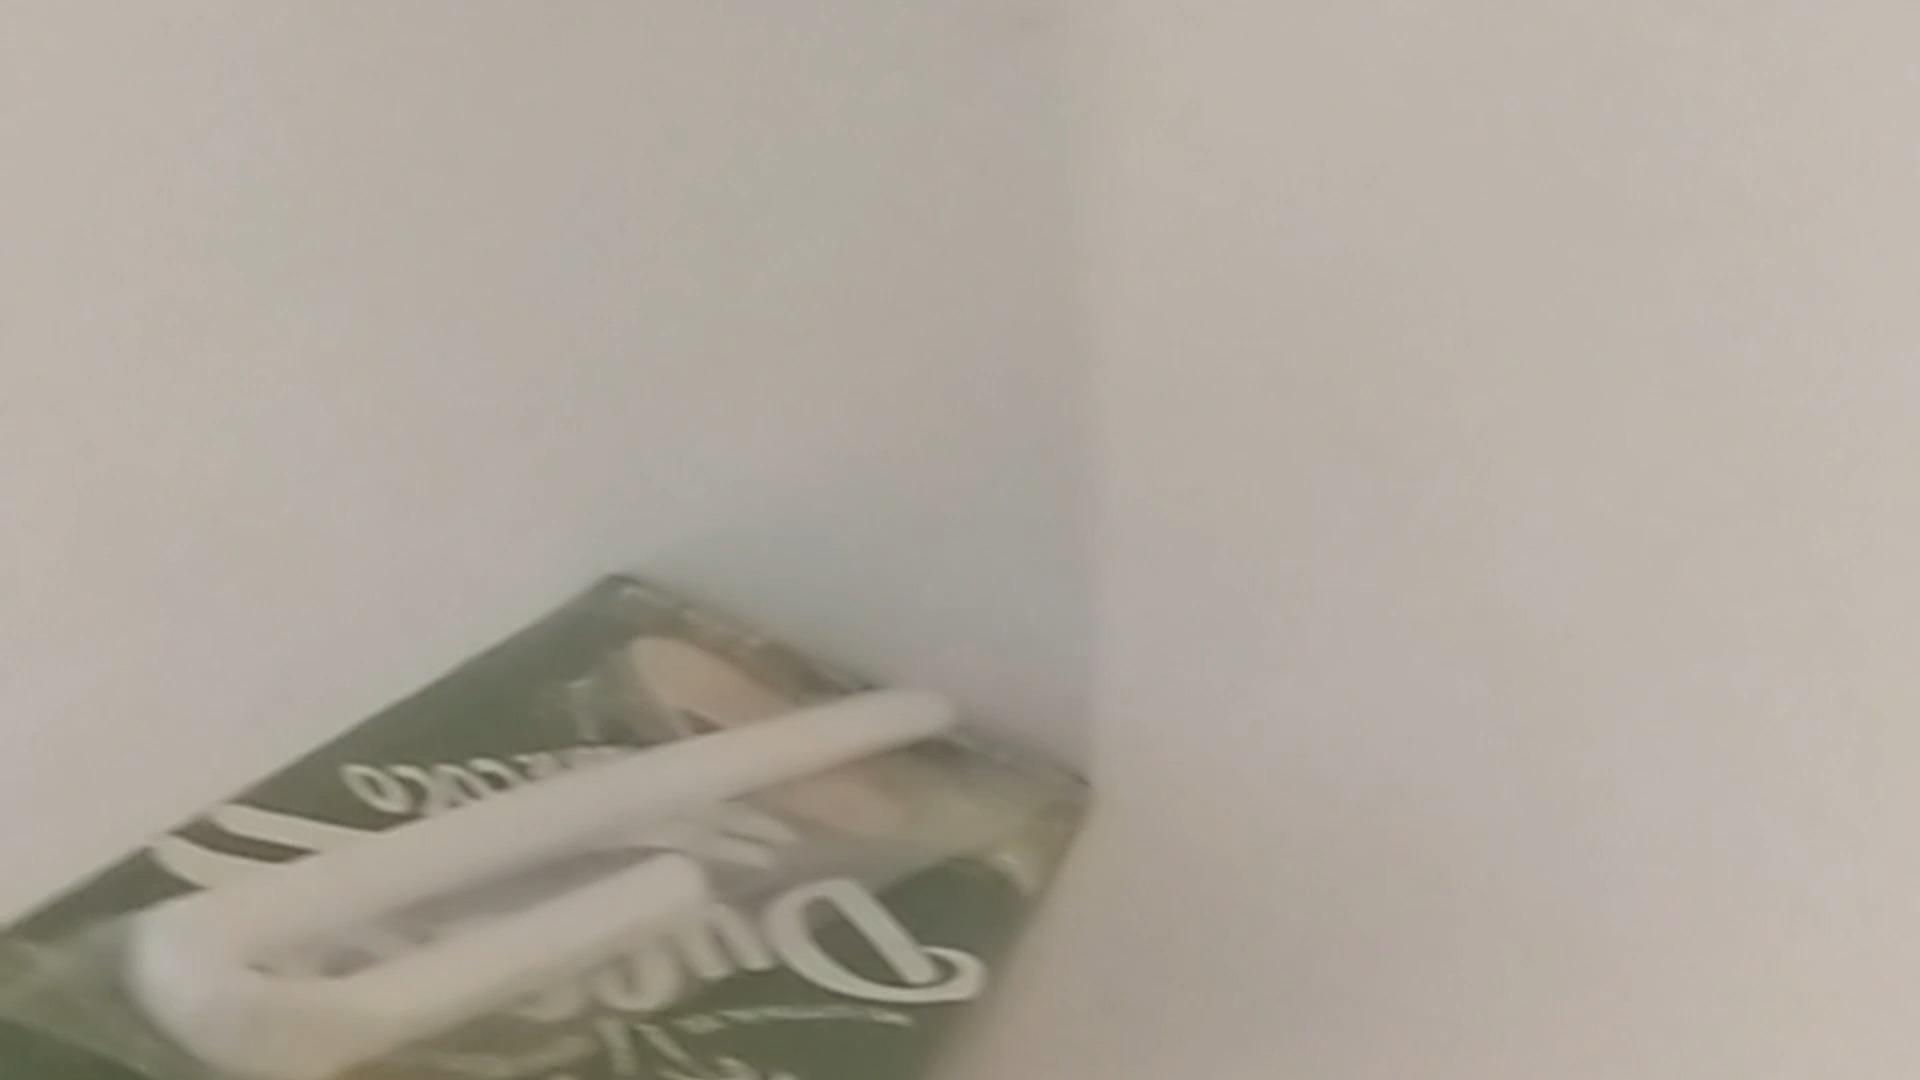coco: (0, 545, 1091, 1080)
